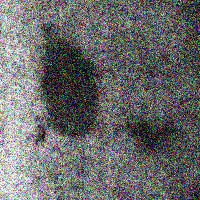patches: (36, 32, 104, 144), (128, 116, 181, 152)
